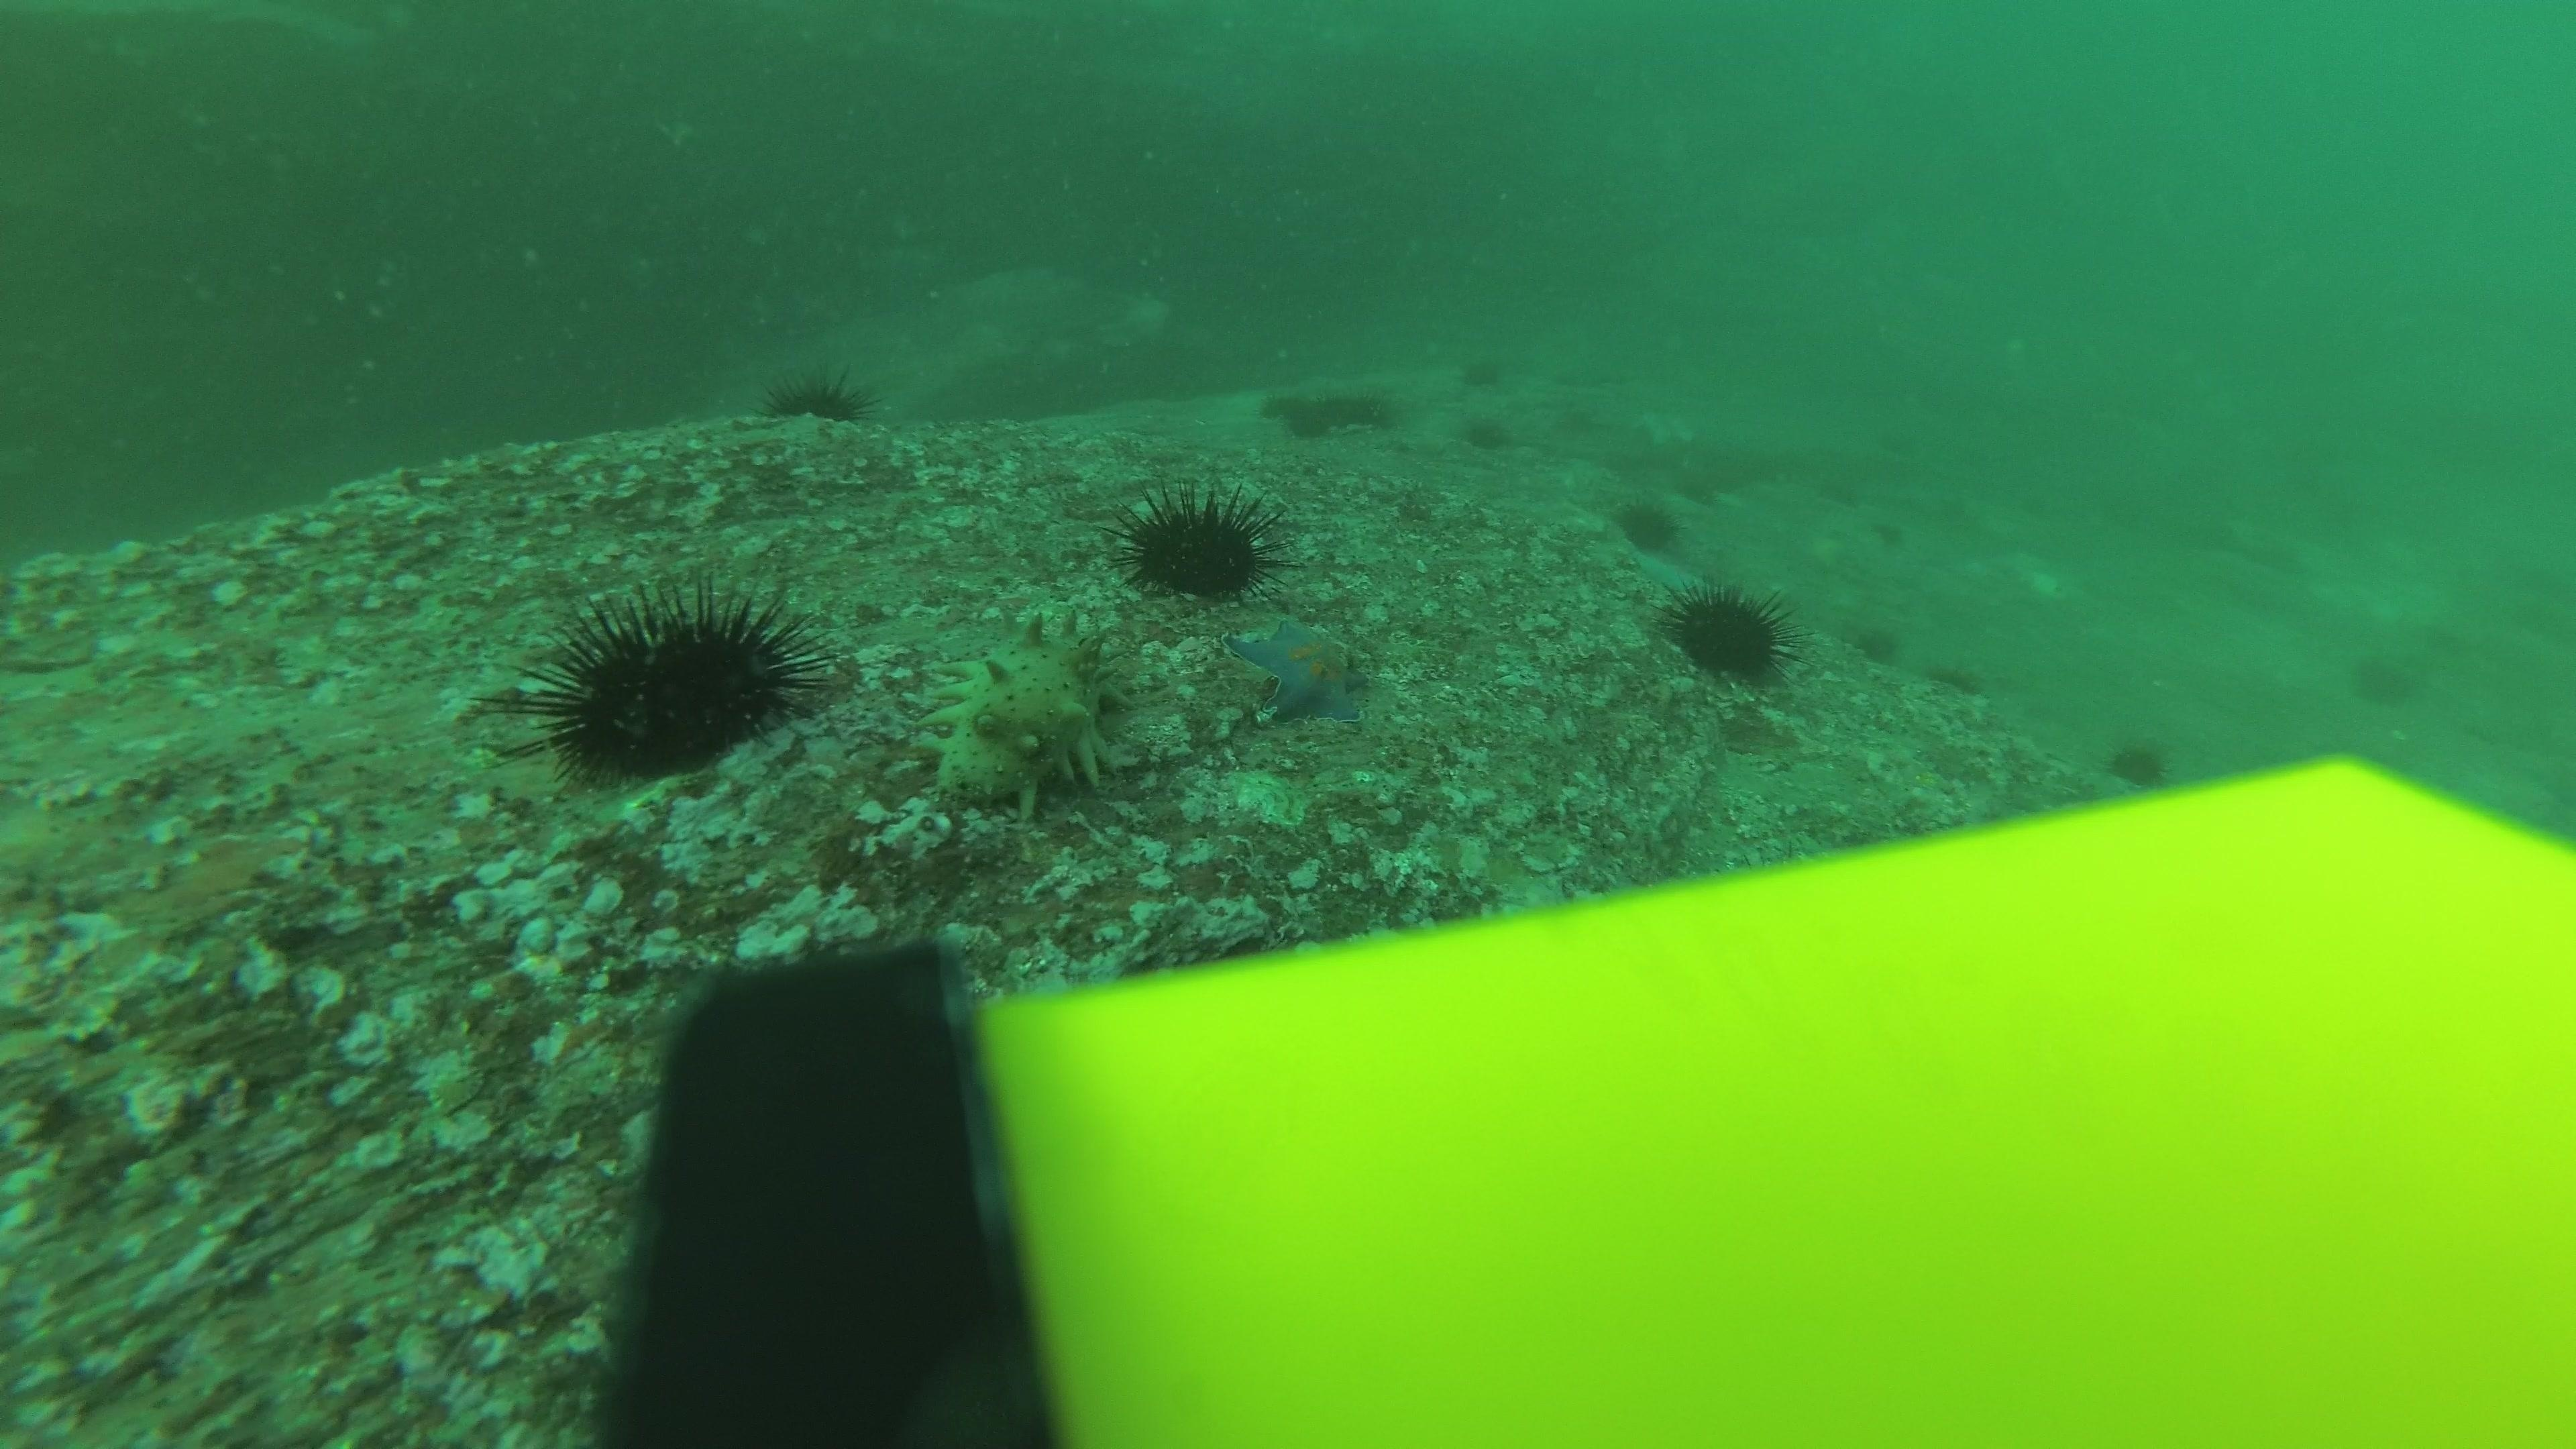echinus: (522, 580, 824, 787), (1118, 483, 1276, 603), (1667, 580, 1794, 685), (766, 364, 870, 426), (2346, 642, 2424, 711), (2104, 731, 2176, 793), (1614, 492, 1683, 552), (1918, 658, 1992, 709), (1851, 617, 1902, 667), (1246, 380, 1302, 425), (1458, 410, 1513, 455), (1286, 403, 1341, 448), (1327, 389, 1382, 433), (1458, 350, 1511, 393)
holothurian: (918, 610, 1134, 817)
starfish: (1224, 609, 1375, 729), (1622, 548, 1702, 596)
